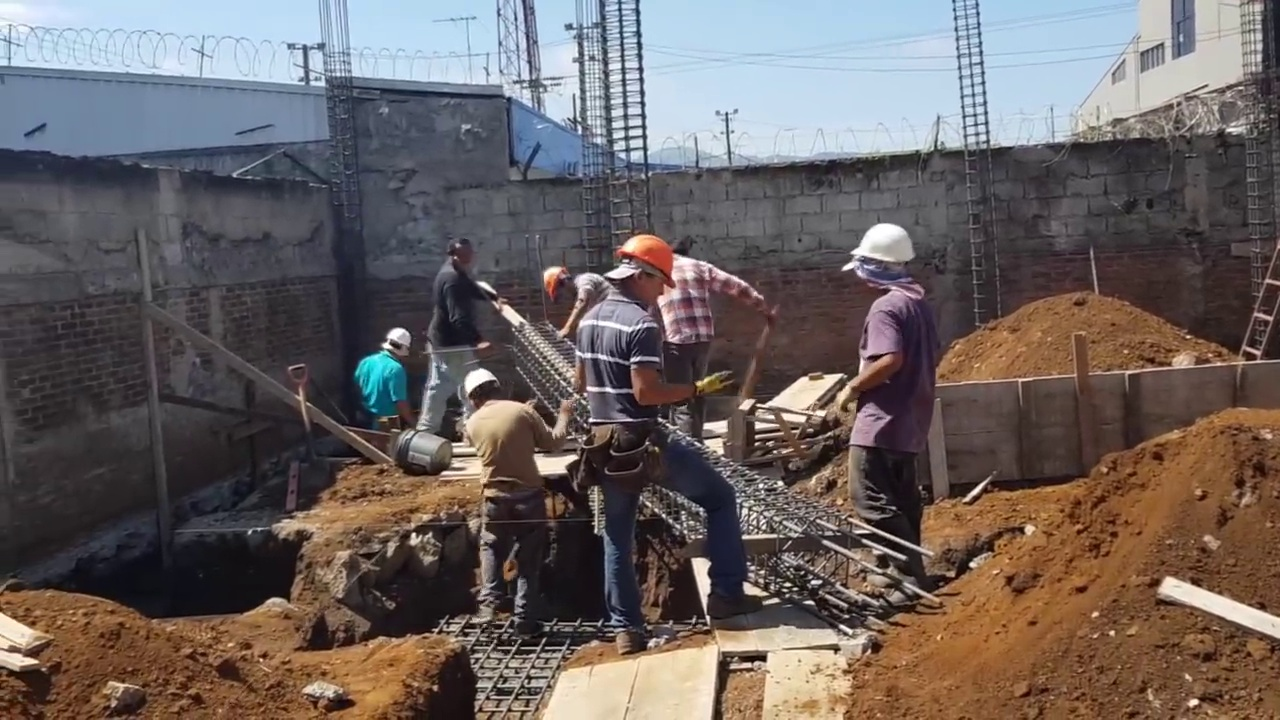helmet: (845, 221, 918, 268), (611, 234, 675, 285), (460, 367, 503, 400), (541, 267, 570, 301), (380, 326, 412, 347)
helmet-off: (442, 242, 468, 272), (664, 234, 694, 256)
helmet-on: (845, 221, 917, 292), (610, 234, 674, 305), (460, 368, 503, 422), (542, 265, 578, 302), (381, 324, 412, 363)
person: (573, 229, 746, 657), (840, 216, 938, 621), (459, 367, 568, 641), (655, 232, 776, 381), (427, 235, 502, 454), (354, 326, 422, 437), (540, 258, 618, 340)
